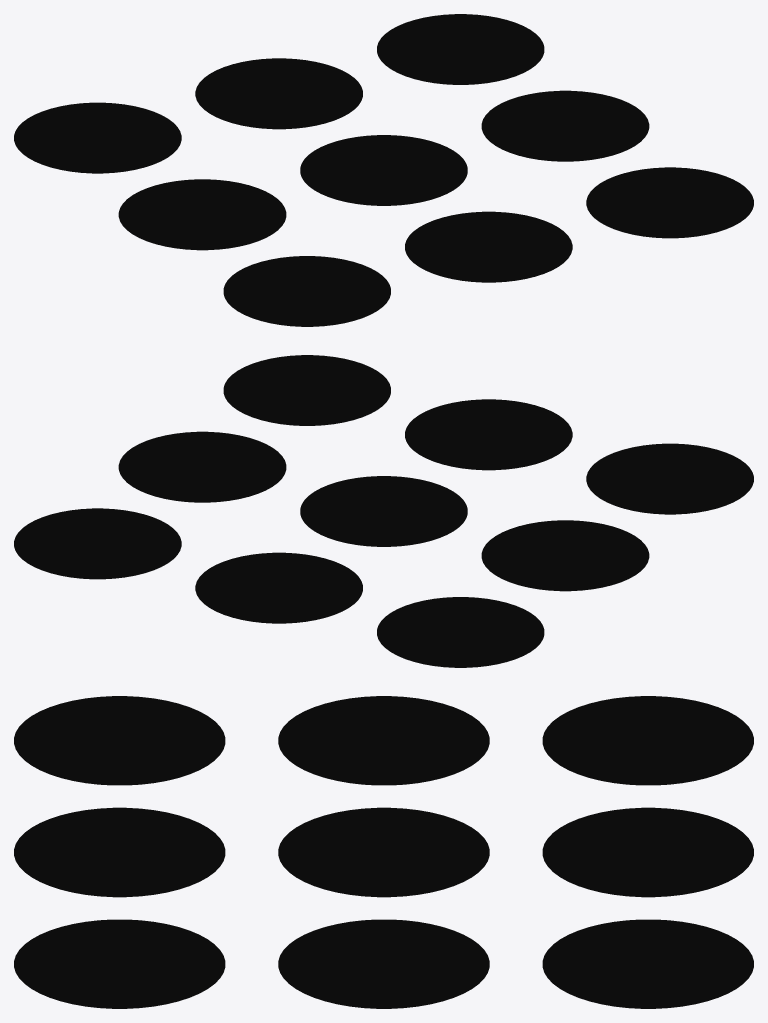
Rendered from TrampaPinchos.fbx.
3 renders of one model, top to bottom at view 1: azimuth 30°, elevation 25°; view 2: azimuth 150°, elevation 25°; view 3: azimuth 270°, elevation 25°, orthographic. The views are drawn at different scales.
Parts seen in each view (by area): view 1: circle_1, circle_4, circle_3, circle_7, circle_2, circle_6, circle, circle_5, circle_8; view 2: circle_2, circle_6, circle_3, circle_7, circle_1, circle_4, circle, circle_5, circle_8; view 3: circle_8, circle_3, circle_7, circle, circle_1, circle_2, circle_4, circle_5, circle_6.
Part boxes in pixels (<box>): circle_1: <box>586,167,753,238</box>; circle_4: <box>14,102,181,173</box>; circle_3: <box>118,179,286,250</box>; circle_7: <box>481,90,649,161</box>; circle_2: <box>223,256,390,326</box>; circle_6: <box>377,14,544,84</box>; circle: <box>405,211,572,282</box>; circle_5: <box>195,58,362,129</box>; circle_8: <box>300,135,467,205</box>; circle_2: <box>586,443,753,514</box>; circle_6: <box>14,508,181,579</box>; circle_3: <box>481,520,649,591</box>; circle_7: <box>118,431,286,502</box>; circle_1: <box>223,355,390,425</box>; circle_4: <box>377,597,544,667</box>; circle: <box>405,399,572,470</box>; circle_5: <box>195,552,362,623</box>; circle_8: <box>300,476,467,546</box>; circle_8: <box>278,807,489,897</box>; circle_3: <box>278,696,489,785</box>; circle_7: <box>278,919,489,1008</box>; circle: <box>14,807,225,897</box>; circle_1: <box>14,919,225,1008</box>; circle_2: <box>14,696,225,785</box>; circle_4: <box>542,696,753,785</box>; circle_5: <box>542,807,753,897</box>; circle_6: <box>542,919,753,1008</box>.
Bounding box in the file's own units: 87.5 × 0 × 87.5.
1 material, 1 textured.
